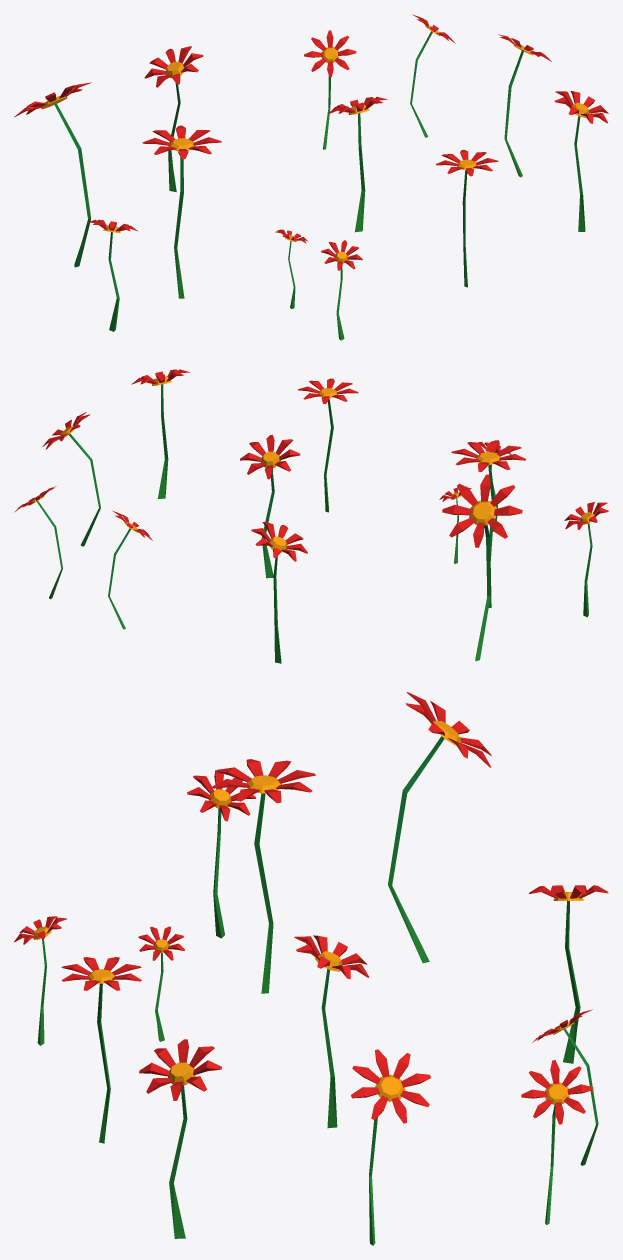
The model's file is flower_red.glb.
3 renders of one model, top to bottom at view 1: azimuth 30°, elevation 25°; view 2: azimuth 150°, elevation 25°; view 3: azimuth 270°, elevation 25°, orthographic. The views are drawn at different scales.
Parts seen in each view (by area): view 1: flower_red; view 2: flower_red; view 3: flower_red.
Part boxes in pixels (x1=…): flower_red: x1=14, y1=14, x2=608, y2=340; flower_red: x1=14, y1=369, x2=608, y2=663; flower_red: x1=14, y1=692, x2=608, y2=1245.
Bounding box in the file's own units: 1.01 × 0.35 × 0.7405.
1 material, 1 textured.
